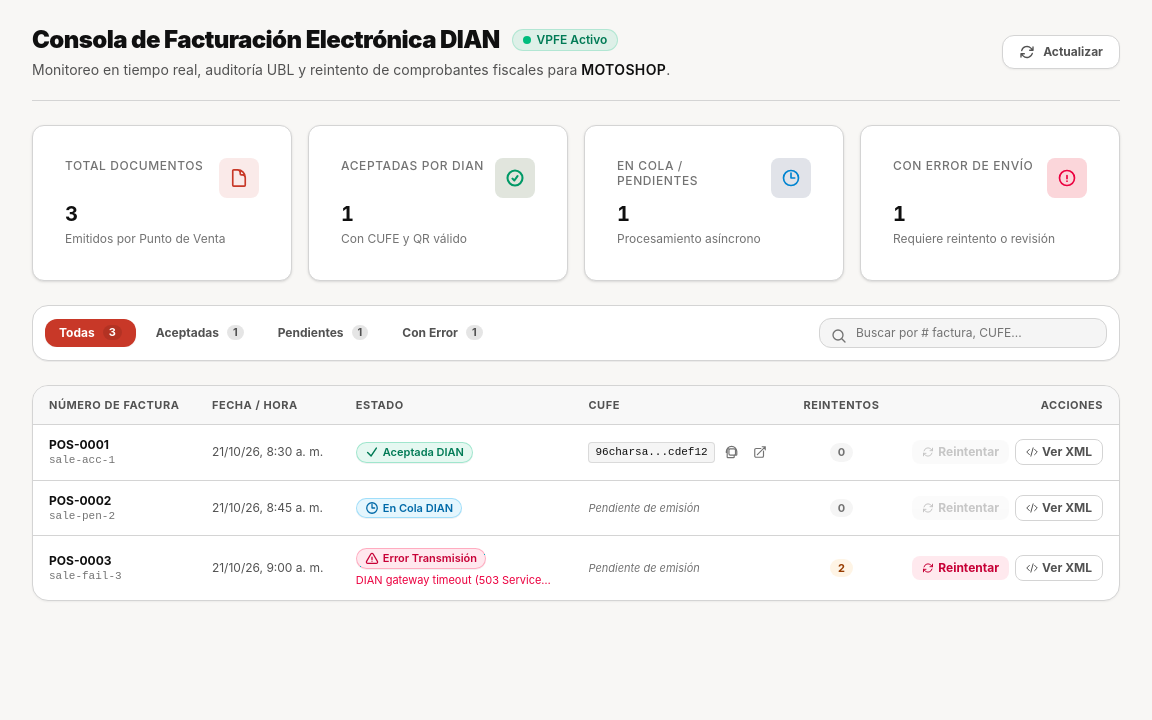
Test: DIAN Invoicing Console Page (app/(authenticated)/dian/consola/page.tsx) › opens XML Modal viewer on 'Ver XML' click and inspects UBL stub
The width and height of the screenshot is (1152, 720).
Expected: the text "POS-0001" is shown, [49,437,109,452]
Step 1. Click the button "Ver XML" in the row of "POS-0001" → [1059, 452], box [1015,440,1103,466]
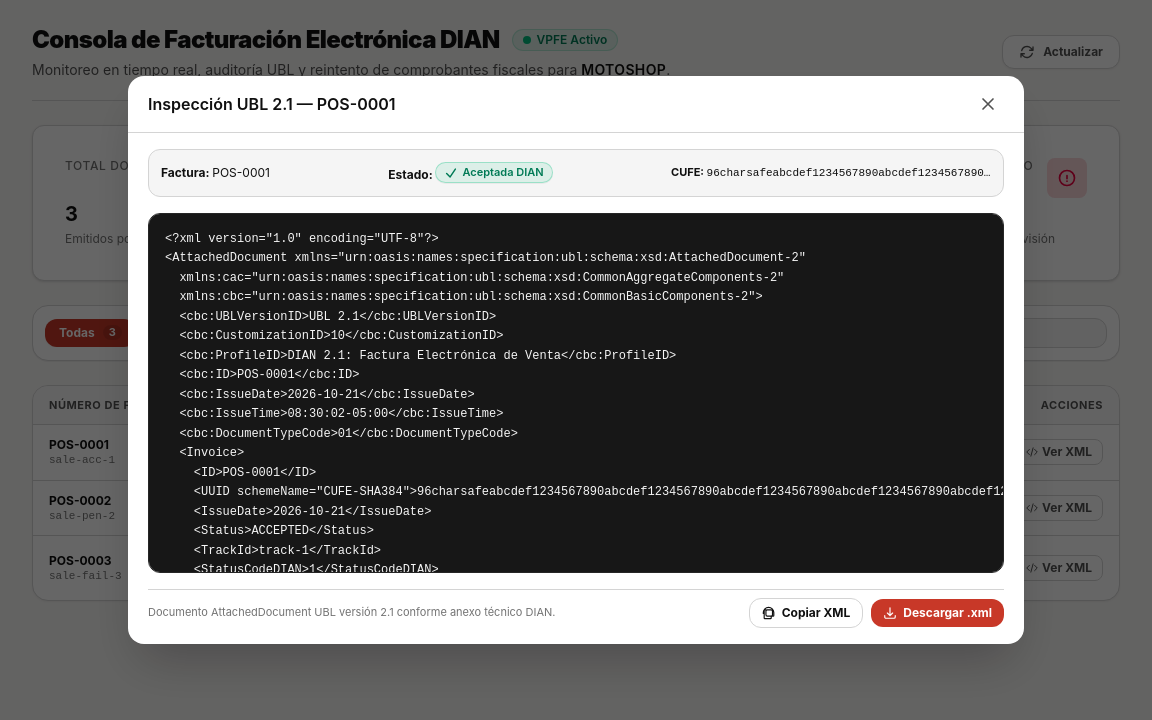
Now the heading "Inspección UBL 2.1 — POS-0001" is shown, box [148,92,396,116]
Now the text "DIAN 2.1: Factura Electrónica de Venta" is shown, box [165,232,1004,573]
Now the button "Copiar XML" is shown, box [749,598,863,628]
